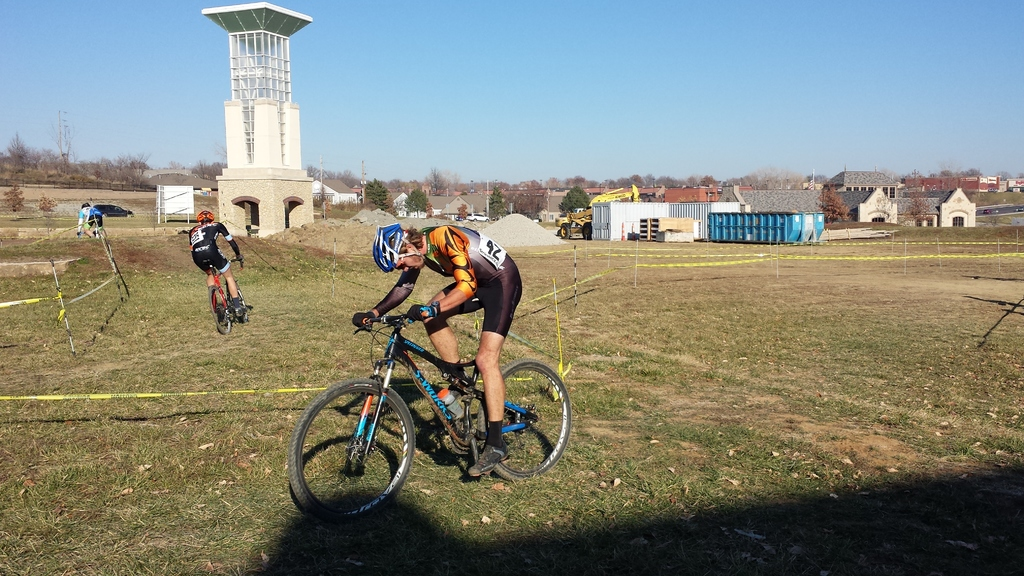Bike_away: (192, 254, 254, 334)
Bike_toward: (288, 310, 572, 521)
